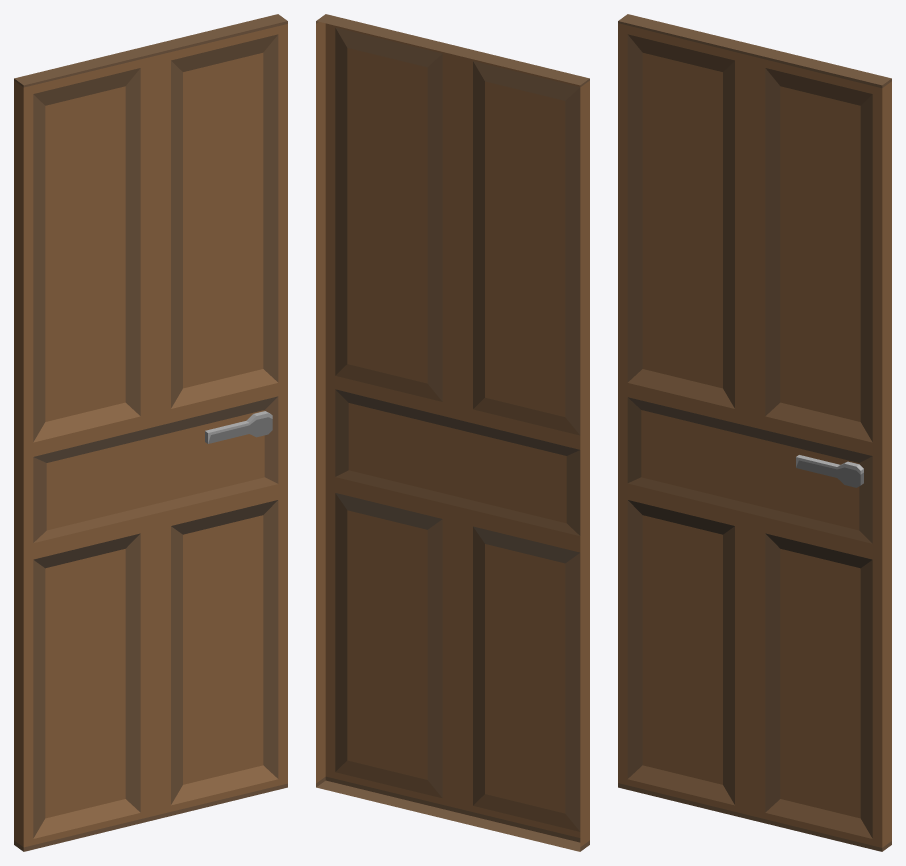
File: door.FBX
3 views of the same model, side by side, from view 1: azimuth 30°, elevation 25°; view 2: azimuth 150°, elevation 25°; view 3: azimuth 330°, elevation 25° (orthographic).
Parts seen in each view (by area): view 1: door; view 2: door; view 3: door.
Part boxes in pixels (left/top/right/bottom): door: left=14, top=14, right=287, bottom=851; door: left=316, top=14, right=589, bottom=851; door: left=618, top=14, right=891, bottom=851.
Bounding box in the file's own units: 88.06 × 244 × 7.41.
Materials: 1 (1 with a texture image).
